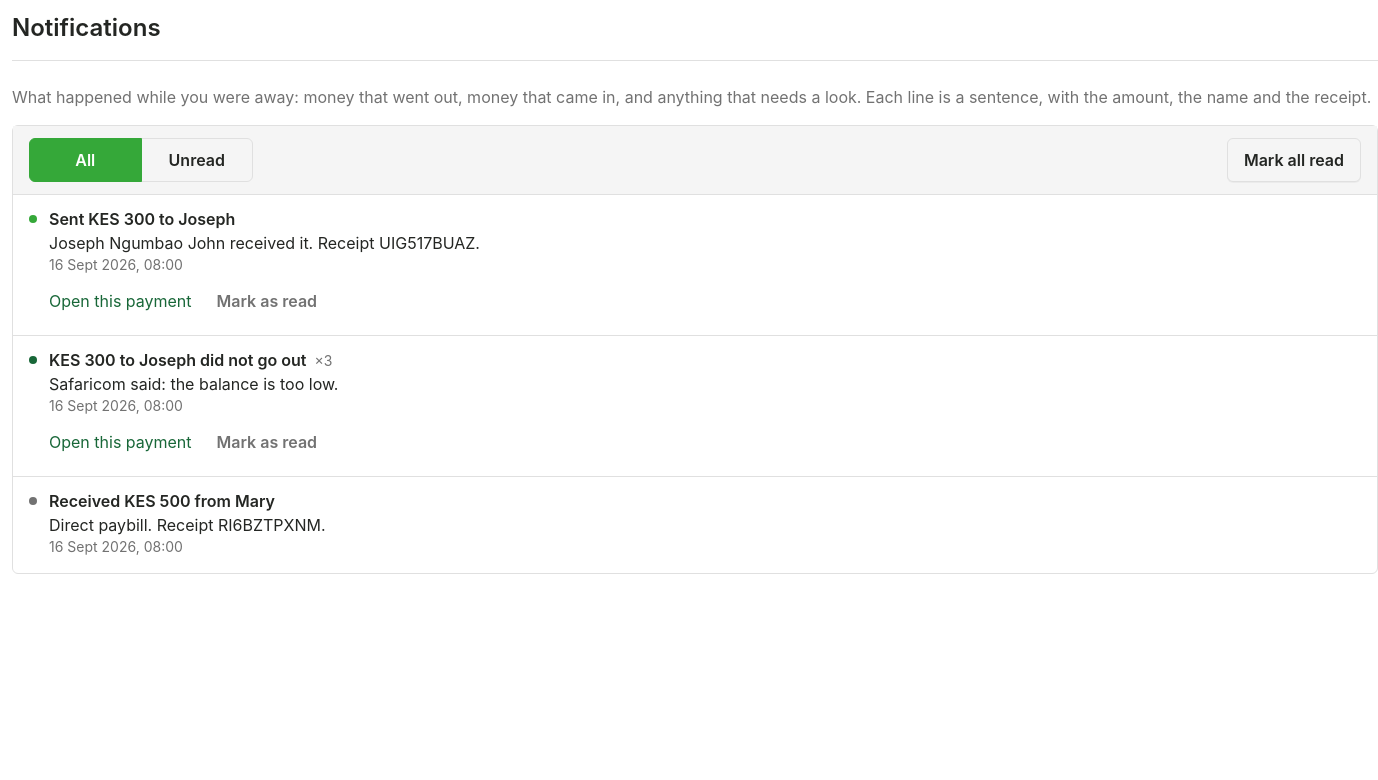
Notifications page › asks for the unread lines only, and hides a line that was already read
The width and height of the screenshot is (1378, 780).
Expected: the text "Received KES 500 from Mary" is shown, [49,489,275,513]
What coordinates should you click on to do the following:
click the radio button "Unread"
I would click on:
 (197, 160)
Its box is [140,138,253,182].
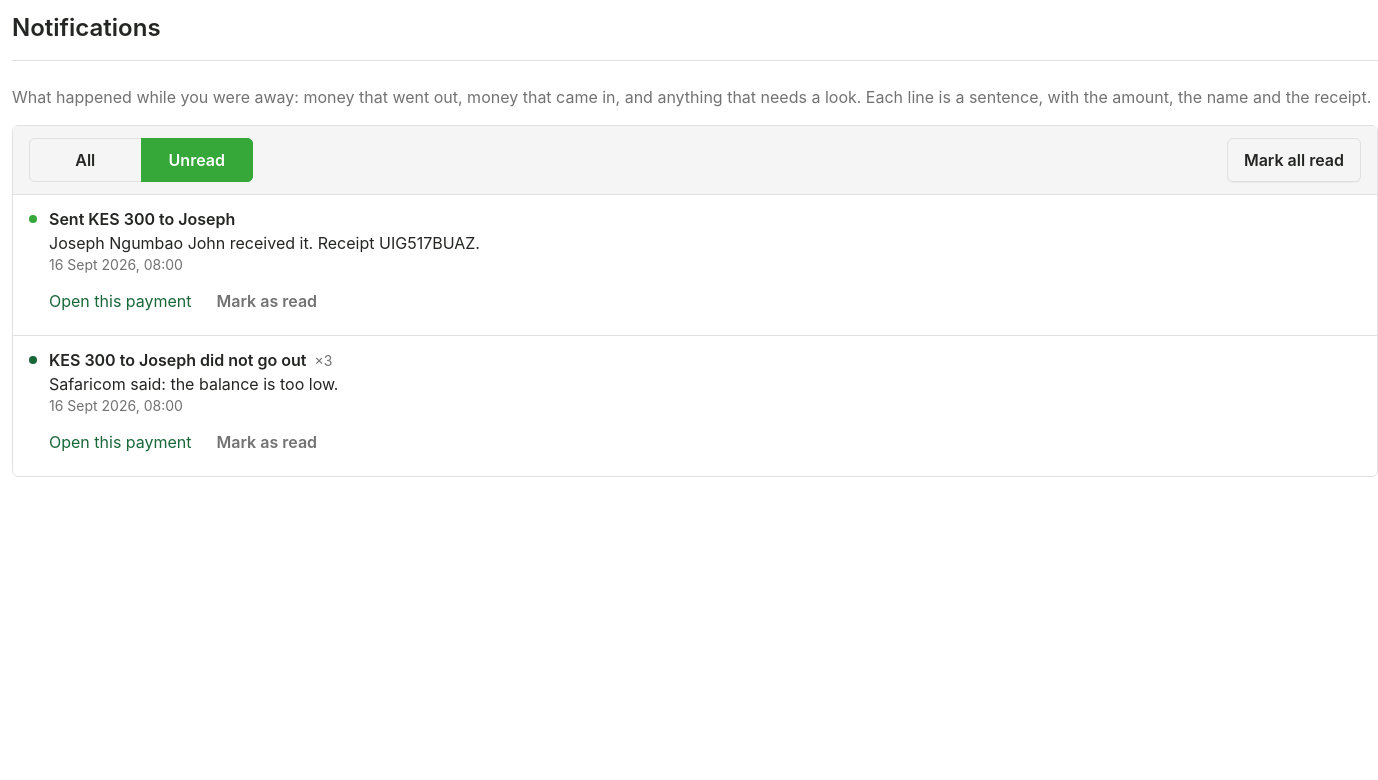
Expected: the text "Sent KES 300 to Joseph" is shown, [49,207,235,231]
Expected: the text "Received KES 500 from Mary" is gone
